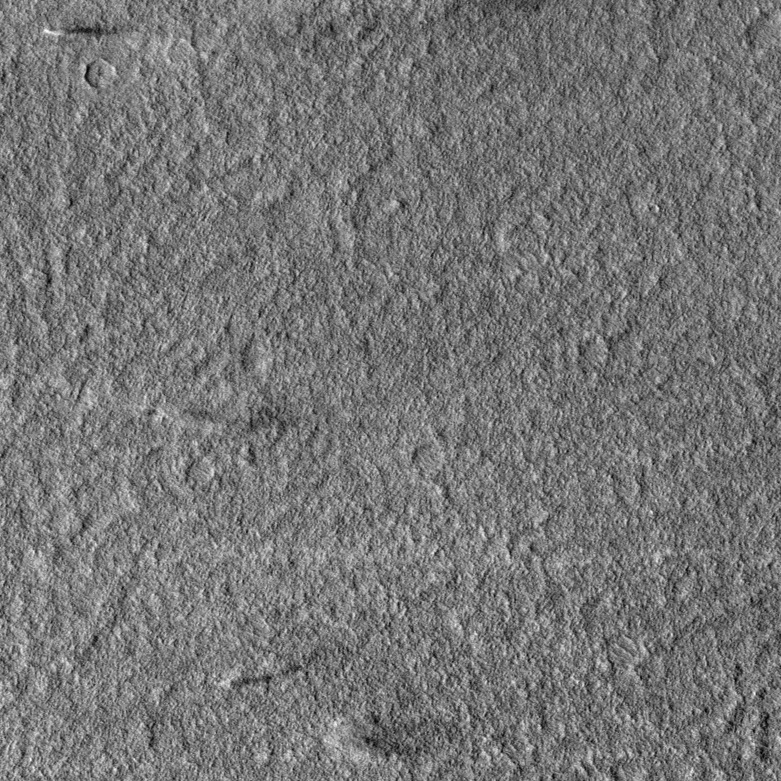dust_devil: (322, 712, 468, 772), (216, 646, 322, 689), (42, 24, 119, 38)
